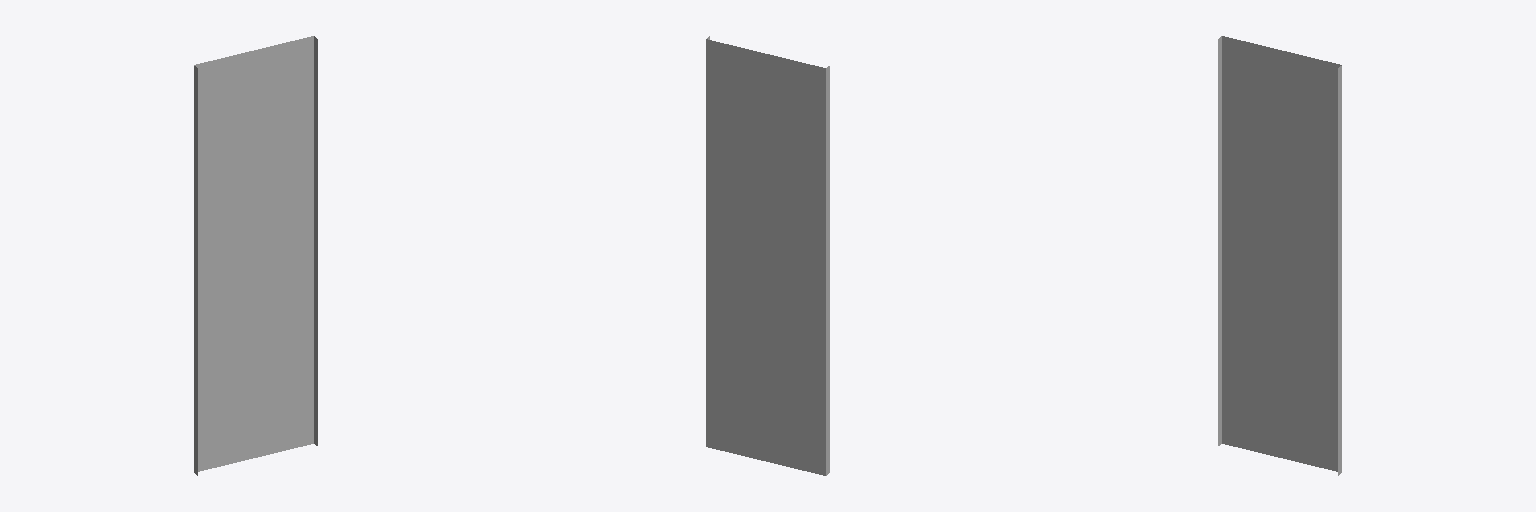
The model's file is Restraunt Wall.obj.
3 views of the same model, side by side, from view 1: azimuth 30°, elevation 25°; view 2: azimuth 150°, elevation 25°; view 3: azimuth 330°, elevation 25° (orthographic).
Visible parts, largest first — view 1: upper, lower, mid, mid2; view 2: upper, lower, mid2, mid; view 3: upper, lower, mid2, mid.
Boxes of the visible parts, box(x1,y1,x2,y2) form: upper: box(194, 36, 317, 381); lower: box(194, 381, 317, 475); mid: box(254, 350, 317, 394); mid2: box(194, 364, 253, 412); upper: box(706, 36, 829, 381); lower: box(706, 384, 829, 475); mid2: box(766, 368, 829, 412); mid: box(706, 353, 765, 398); upper: box(1218, 36, 1341, 381); lower: box(1218, 381, 1341, 475); mid2: box(1218, 350, 1281, 394); mid: box(1282, 364, 1341, 412).
Size of the model in its own units: 2 by 6.5 by 0.125.